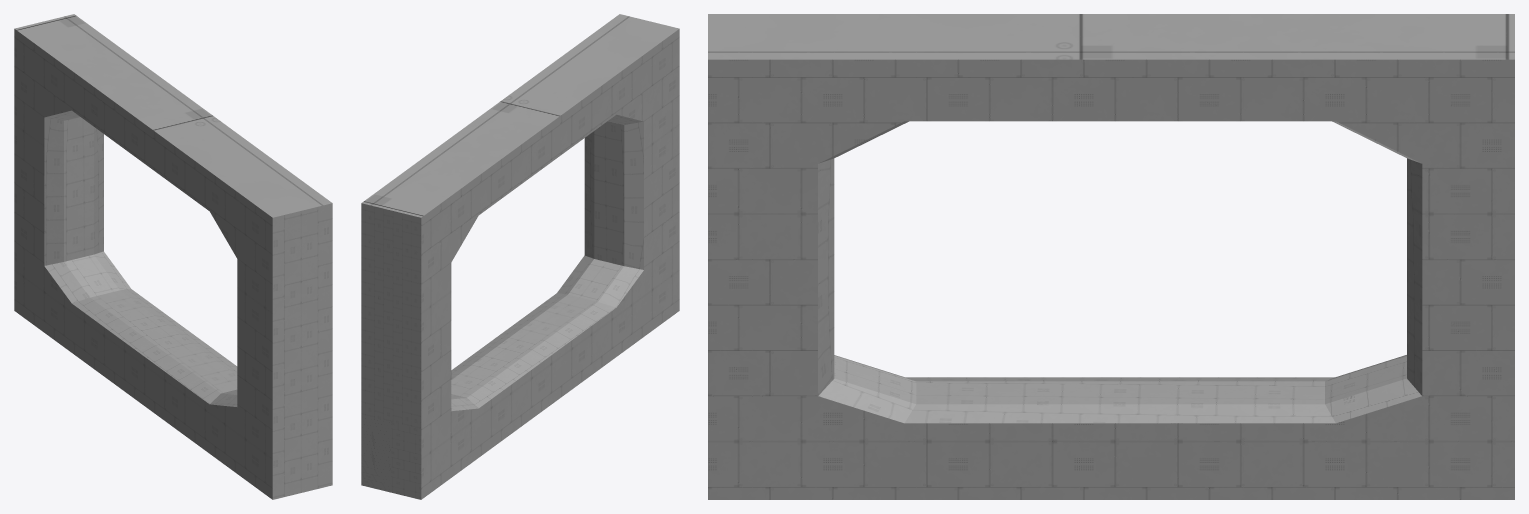
Rendered from wall_with_window.fbx.
3 views of the same model, side by side, from view 1: azimuth 30°, elevation 25°; view 2: azimuth 150°, elevation 25°; view 3: azimuth 270°, elevation 25° (orthographic). The views are drawn at different scales.
Parts seen in each view (by area): view 1: Wall; view 2: Wall; view 3: Wall.
Boxes of the visible parts, left/top/right/bottom form: Wall: left=14, top=14, right=332, bottom=499; Wall: left=361, top=14, right=679, bottom=499; Wall: left=708, top=14, right=1514, bottom=499.
Size of the model in its own units: 200 by 900 by 1494.
